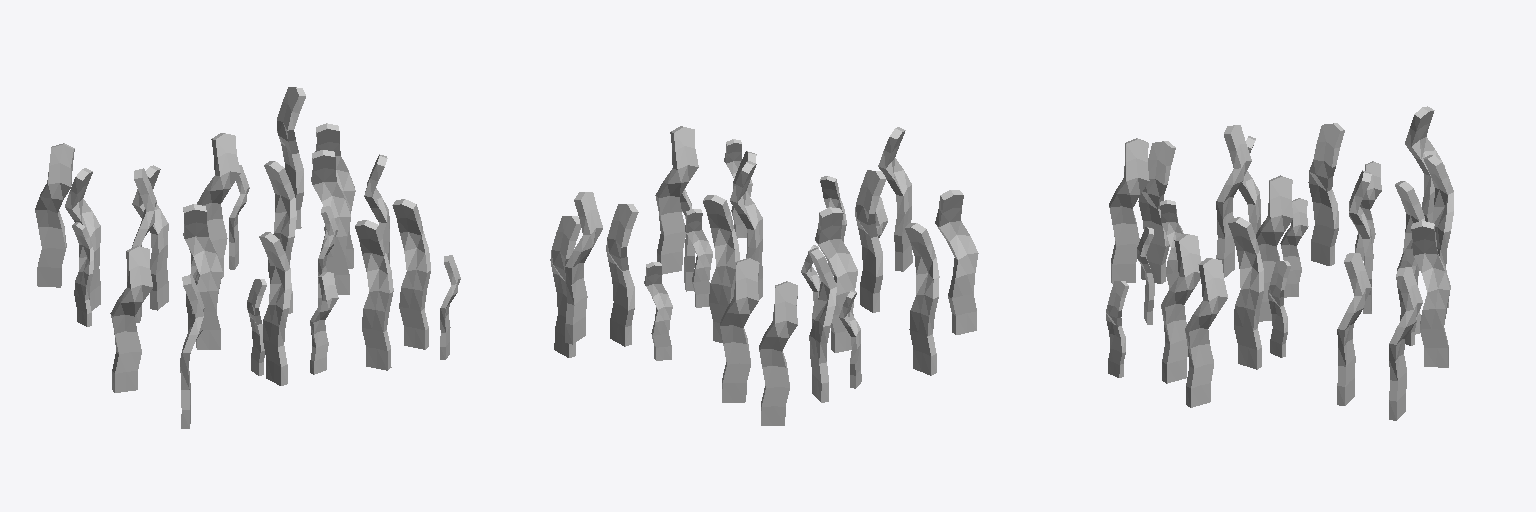
Rendered from tile_kelp.obj.
The picture shows the model from 3 angles: view 1: azimuth 30°, elevation 25°; view 2: azimuth 150°, elevation 25°; view 3: azimuth 270°, elevation 25°; orthographic projection.
Parts seen in each view (by area): view 1: Plane.018, Plane.017, Plane.023, Plane.002, Plane.021, Plane.006, Plane.012, Plane.011, Plane.008, Plane.005, Plane.013, Plane.001 (+10 smaller); view 2: Plane.005, Plane.016, Plane.001, Plane.022, Plane.023, Plane.012, Plane.011, Plane.008, Plane.006, Plane.004, Plane.002, Plane.021 (+9 smaller); view 3: Plane.008, Plane.016, Plane.017, Plane.021, Plane.004, Plane.018, Plane.022, Plane.012, Plane.009, Plane.013, Plane.006, Plane.001 (+10 smaller).
Boxes of the visible parts, x1=… form: Plane.018: x1=355, y1=220, x2=393, y2=370; Plane.017: x1=392, y1=199, x2=430, y2=349; Plane.023: x1=110, y1=245, x2=152, y2=392; Plane.002: x1=35, y1=143, x2=74, y2=287; Plane.021: x1=259, y1=232, x2=291, y2=385; Plane.006: x1=183, y1=204, x2=222, y2=349; Plane.012: x1=311, y1=150, x2=350, y2=294; Plane.011: x1=197, y1=133, x2=240, y2=277; Plane.008: x1=277, y1=87, x2=305, y2=228; Plane.005: x1=132, y1=165, x2=168, y2=310; Plane.013: x1=264, y1=161, x2=296, y2=313; Plane.001: x1=65, y1=168, x2=100, y2=310; Plane.005: x1=720, y1=258, x2=759, y2=402; Plane.016: x1=655, y1=126, x2=698, y2=274; Plane.001: x1=759, y1=281, x2=797, y2=425; Plane.022: x1=935, y1=190, x2=978, y2=334; Plane.023: x1=905, y1=223, x2=939, y2=375; Plane.012: x1=606, y1=204, x2=638, y2=346; Plane.011: x1=703, y1=195, x2=739, y2=342; Plane.008: x1=565, y1=192, x2=602, y2=344; Plane.006: x1=855, y1=170, x2=886, y2=312; Plane.004: x1=815, y1=207, x2=857, y2=352; Plane.002: x1=808, y1=248, x2=836, y2=402; Plane.021: x1=878, y1=127, x2=912, y2=271; Plane.008: x1=1411, y1=221, x2=1450, y2=367; Plane.016: x1=1228, y1=217, x2=1263, y2=369; Plane.017: x1=1185, y1=258, x2=1227, y2=407; Plane.021: x1=1109, y1=138, x2=1149, y2=283; Plane.004: x1=1308, y1=123, x2=1344, y2=265; Plane.018: x1=1161, y1=234, x2=1201, y2=383; Plane.022: x1=1138, y1=141, x2=1175, y2=283; Plane.012: x1=1337, y1=253, x2=1371, y2=405; Plane.009: x1=1389, y1=267, x2=1422, y2=420; Plane.013: x1=1256, y1=175, x2=1293, y2=321; Plane.006: x1=1216, y1=125, x2=1251, y2=277; Plane.001: x1=1423, y1=155, x2=1453, y2=307.
Bounding box in the file's own units: 1.6 × 0.8722 × 1.54.